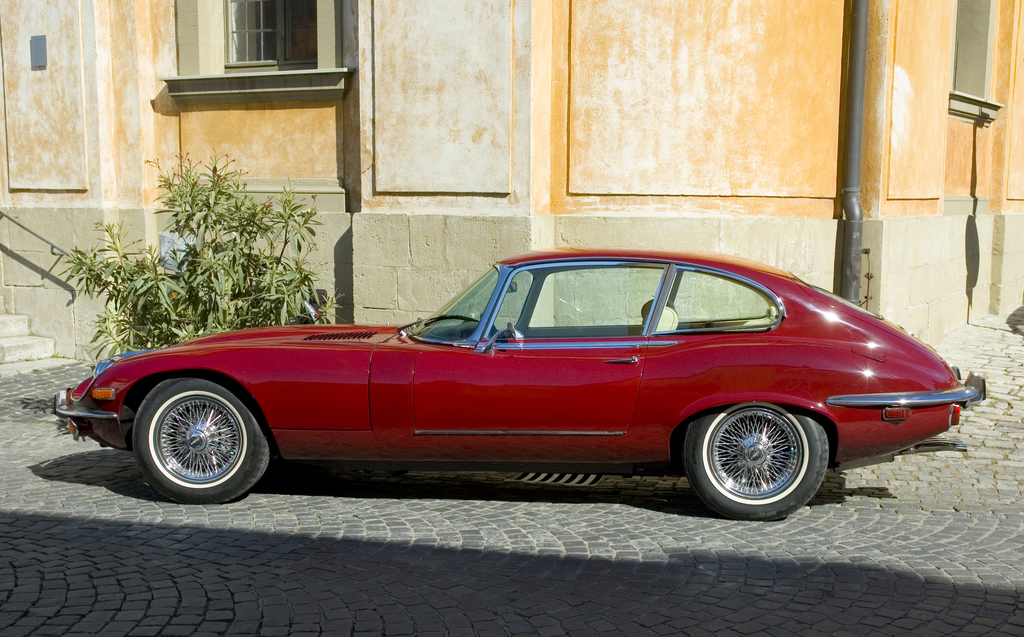Car: (51, 248, 986, 521)
